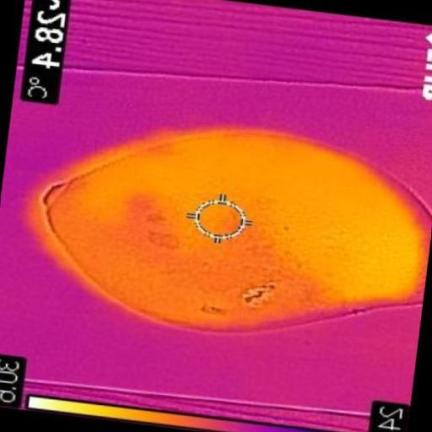mango: (44, 130, 432, 329)
